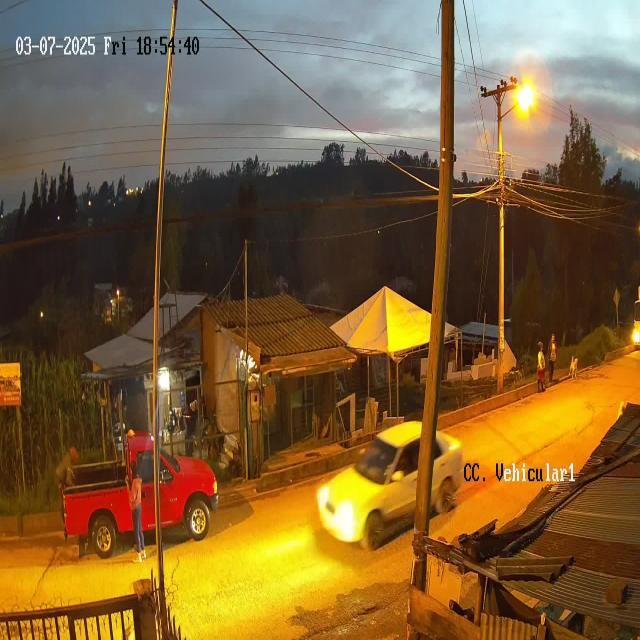CMT: (61, 430, 221, 555)
SED: (317, 418, 464, 553)
